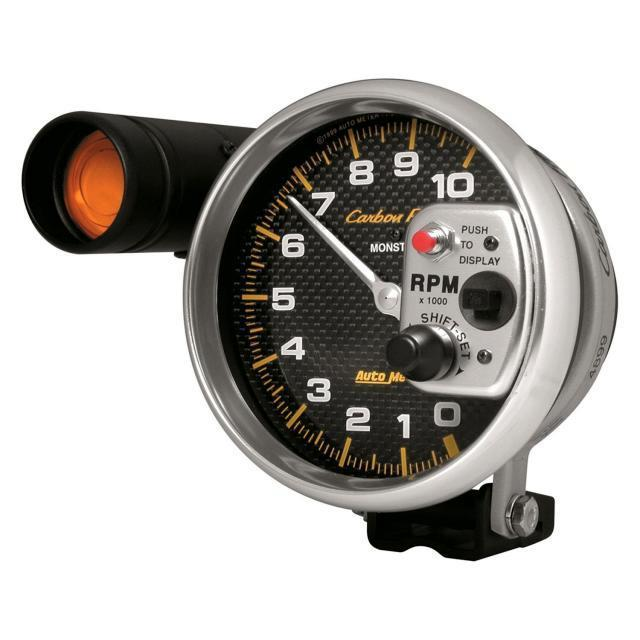Needle_Tip: (278, 189, 327, 231)
Needle_base: (348, 261, 423, 333)
max_value: (418, 160, 491, 215)
min_value: (415, 398, 470, 449)
